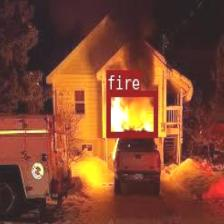fire: (106, 90, 157, 137)
